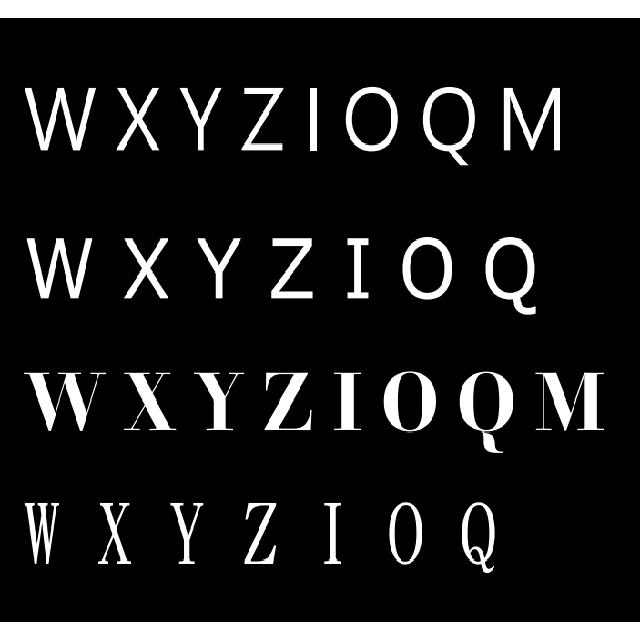0: (342, 79, 398, 156), (402, 230, 454, 306), (383, 365, 436, 435), (459, 494, 501, 582), (386, 495, 424, 571)
1: (322, 499, 349, 572)
9: (483, 231, 540, 324)
I: (340, 227, 378, 311), (301, 83, 332, 160)
M: (497, 81, 571, 160), (533, 367, 612, 440)
Q: (453, 367, 524, 459), (421, 81, 488, 171)
W: (20, 83, 100, 157), (23, 370, 105, 438), (15, 236, 91, 306), (18, 498, 64, 574)
X: (118, 363, 186, 439), (122, 231, 172, 307), (114, 84, 164, 157), (97, 497, 138, 572), (331, 363, 362, 439)
Y: (178, 81, 225, 154), (193, 236, 241, 306), (166, 496, 208, 573), (200, 370, 249, 434)
Z: (266, 231, 322, 303), (237, 84, 285, 160), (262, 369, 314, 435), (238, 497, 279, 572)
